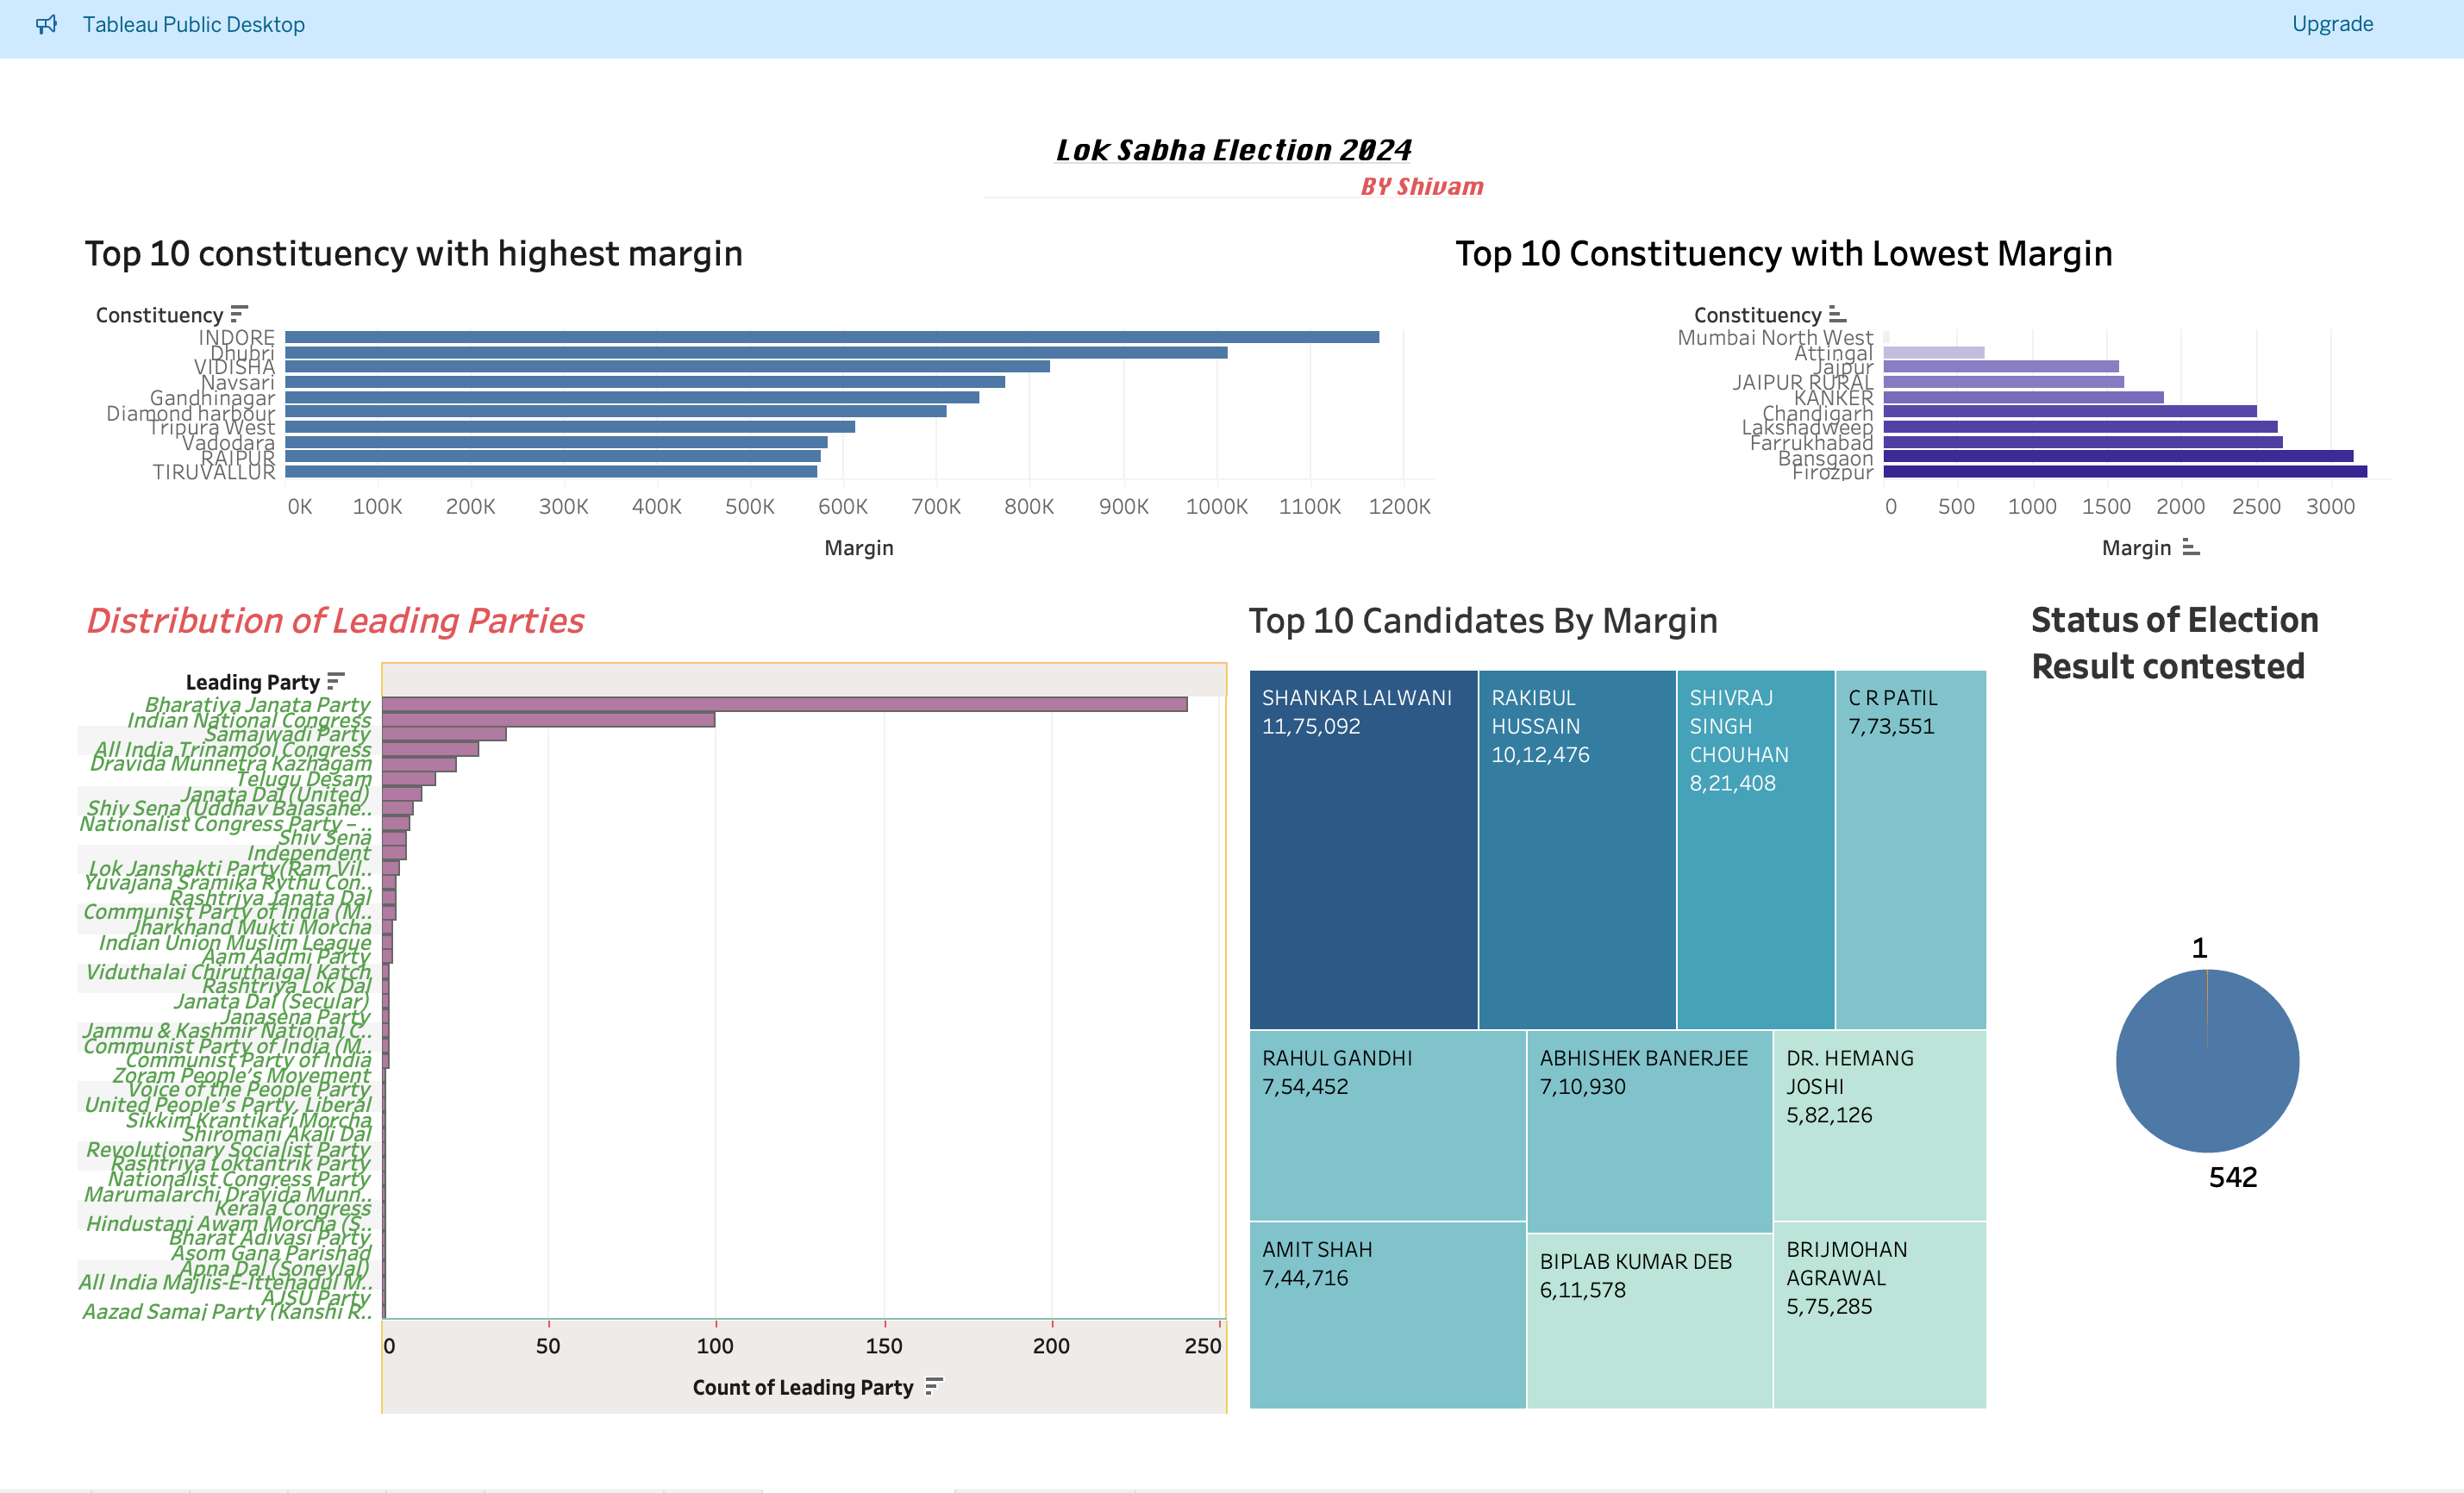

This screenshot's page, from the dashboard's own definition file:
{"tool":"tableau","page":{"name":"Election 2024","canvas":[1366,768],"ordinal":1},"visuals":[{"type":"title","box":[8,8,1350,39]},{"type":"worksheet","title":"Sheet 2","mark":"Bar","rows":["Constituency"],"cols":["Margin"],"box":[8,47,795,220.6]},{"type":"worksheet","title":"Sheet 3","mark":"Automatic","rows":["Constituency"],"cols":["Margin"],"box":[803,47,555,220.6]},{"type":"worksheet","title":"Sheet 1","mark":"Automatic","rows":["Leading Party"],"cols":["Leading Party"],"box":[8,267.6,754,492.4]},{"type":"worksheet","title":"Sheet 5","mark":"Automatic","box":[762,267.6,375,492.4]},{"type":"worksheet","title":"Sheet 4","mark":"Pie","box":[1137,267.6,221,492.4]}]}

Visuals, with their boxes on the page's 1366x768 design canvas (x1, y1, x2, y2). These are canvas units, not pixel positions in the 2464x1493 screenshot, which may show the page scaled, cropped or inside an application window:
title: 8/8/1358/47
"Sheet 2" worksheet (Bar marks): 8/47/803/268
"Sheet 3" worksheet: 803/47/1358/268
"Sheet 1" worksheet: 8/268/762/760
"Sheet 5" worksheet: 762/268/1137/760
"Sheet 4" worksheet (Pie marks): 1137/268/1358/760
